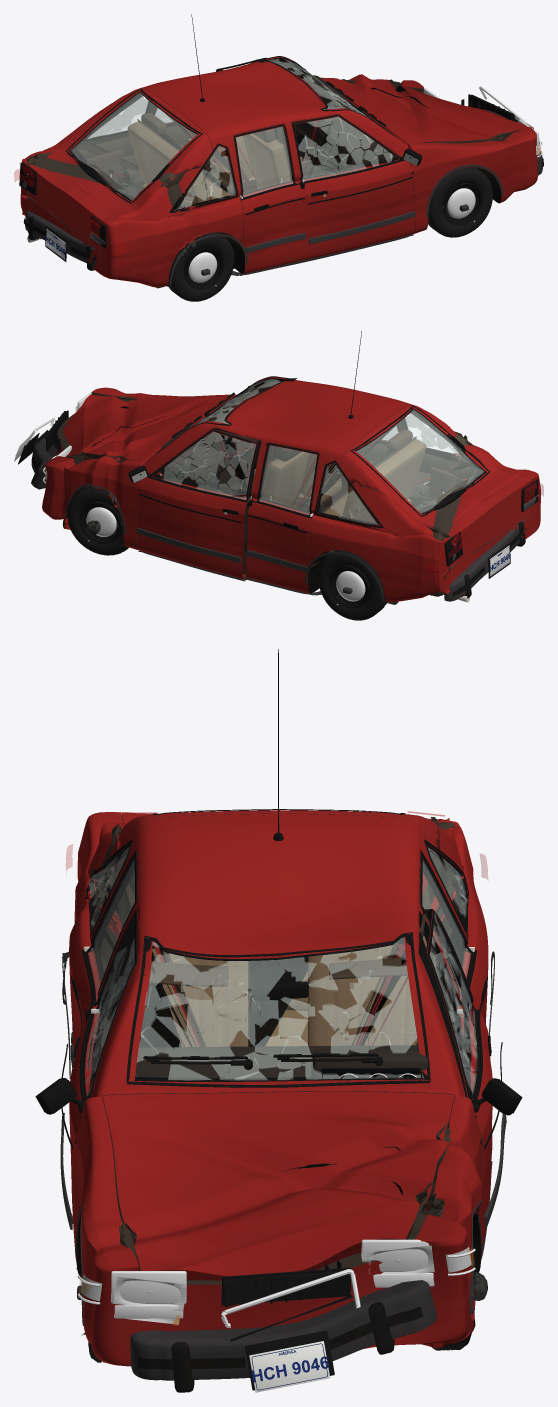
Rendered from hatchback85_front_corner_d1.glb.
3 renders of one model, top to bottom at view 1: azimuth 30°, elevation 25°; view 2: azimuth 150°, elevation 25°; view 3: azimuth 270°, elevation 25°, orthographic. The views are drawn at different scales.
Parts seen in each view (by area): view 1: Body, Interior, Hatch, Door_FR, Glass_Hatch, Hood, Door_RR, Glass, Wheel_FR_mesh, Glass_FR, Wheel_RR_mesh, Glass_RR (+7 smaller); view 2: Body, Interior, Hatch, Door_FL, Glass_Hatch, Hood, Door_RL, Glass_FL, Wheel_RL_mesh, Glass, Glass_RL, Wheel_FL_mesh (+8 smaller); view 3: Body, Hood, Glass, Interior, Ends, Bumper_F, Door_FL, Trim, Door_FR, Trim_FL, Glass_FL, Trim_FR (+7 smaller).
Part boxes in pixels (x1,y1,x2,y2): Body: (20,57,537,287); Interior: (88,75,390,232); Hatch: (27,88,212,253); Door_FR: (291,114,415,259); Glass_Hatch: (66,88,202,203); Hood: (323,74,527,145); Door_RR: (233,123,307,273); Glass: (88,56,395,212); Wheel_FR_mesh: (428,167,492,237); Glass_FR: (291,114,399,181); Wheel_RR_mesh: (167,232,234,301); Glass_RR: (233,127,295,197); Body: (42,377,540,602); Interior: (161,384,465,552); Hatch: (340,404,531,569); Door_FL: (137,427,261,580); Glass_Hatch: (350,405,490,516); Hood: (63,394,232,461); Door_RL: (245,442,319,593); Glass_FL: (153,428,259,501); Wheel_RL_mesh: (318,550,386,620); Glass: (156,376,462,526); Glass_RL: (257,445,319,515); Wheel_FL_mesh: (67,486,128,555); Body: (69,812,488,1366); Hood: (102,1091,454,1280); Glass: (86,844,467,1087); Interior: (122,883,433,1078); Ends: (77,1239,475,1392); Bumper_F: (130,1280,436,1392); Door_FL: (418,909,492,1251); Trim: (61,649,494,1325); Door_FR: (69,908,138,1250); Trim_FL: (427,910,522,1260); Glass_FL: (425,910,477,1092); Trim_FR: (35,909,137,1269).
Bounding box in the file's own units: 4.37 × 2.14 × 1.93.
Materials: 33 (5 with a texture image).
